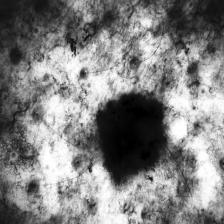Benign Marking or Mole: (96, 96, 165, 174)
